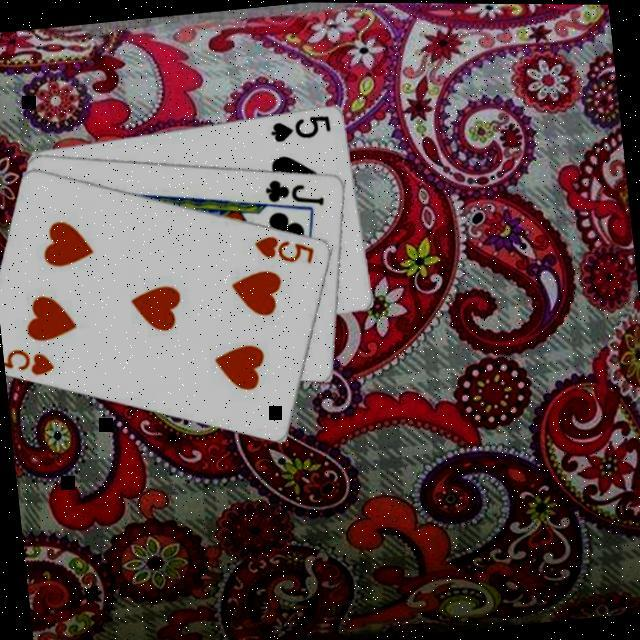5H: (248, 229, 316, 272), (1, 341, 57, 383)
5S: (264, 110, 333, 146)
JC: (260, 172, 326, 214)
